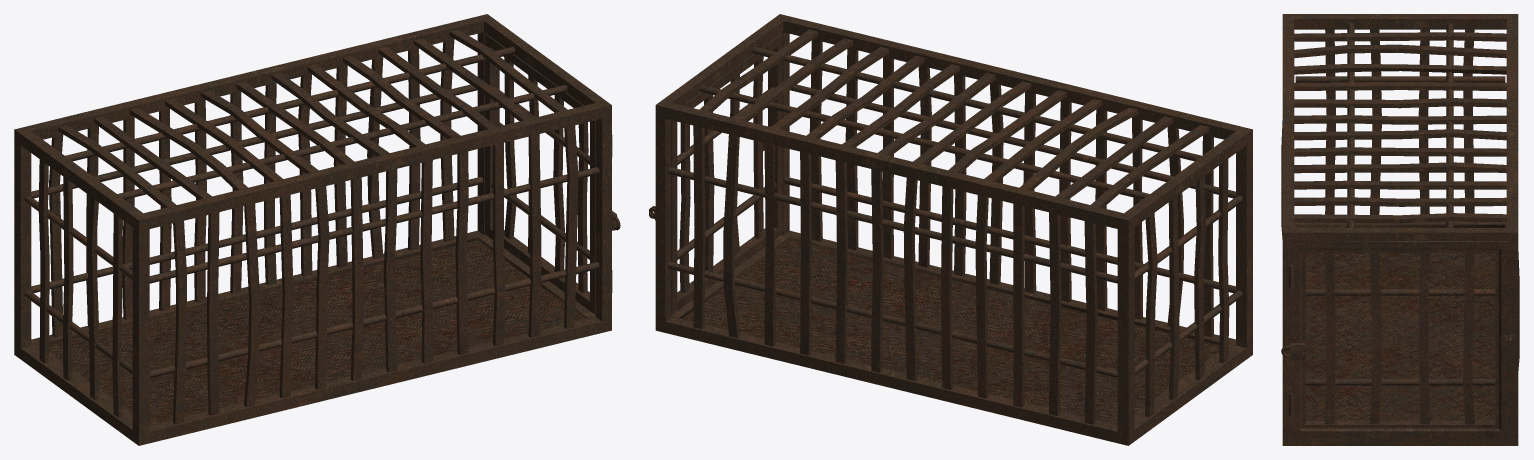
The model's file is cage_mx_1.fbx.
3 views of the same model, side by side, from view 1: azimuth 30°, elevation 25°; view 2: azimuth 150°, elevation 25°; view 3: azimuth 270°, elevation 25° (orthographic). The views are drawn at different scales.
Parts seen in each view (by area): view 1: cage_mx_1, cage_mx_1_door; view 2: cage_mx_1, cage_mx_1_door; view 3: cage_mx_1, cage_mx_1_door, padlock_mx_1.
Part boxes in pixels (left/top/right/bottom): cage_mx_1: left=14, top=14, right=611, bottom=445; cage_mx_1_door: left=484, top=33, right=612, bottom=314; cage_mx_1: left=649, top=14, right=1252, bottom=445; cage_mx_1_door: left=651, top=33, right=782, bottom=314; cage_mx_1: left=1281, top=14, right=1519, bottom=445; cage_mx_1_door: left=1289, top=241, right=1508, bottom=437; padlock_mx_1: left=1281, top=343, right=1305, bottom=359.
Size of the model in its own units: 4.49 by 2.01 by 2.03.
